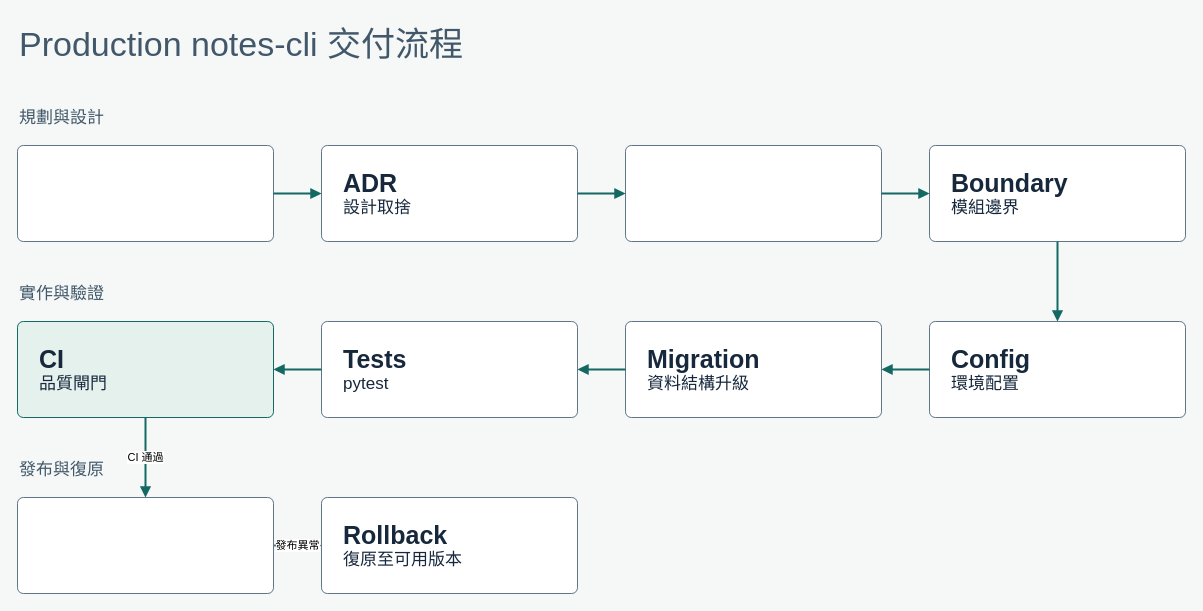
This 1203x611 diagram has some shape labels left out. Each missing label, with the centre of its shape:
"Release 正式發布" belongs at point 145,545.
"SLO 效能目標" belongs at point 753,193.
"需求 驗收條件" belongs at point 145,193.
